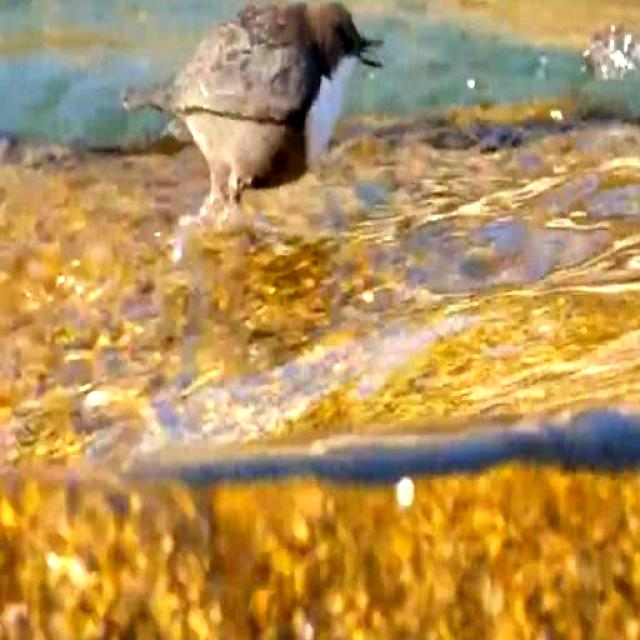airplane: (119, 0, 388, 209)
